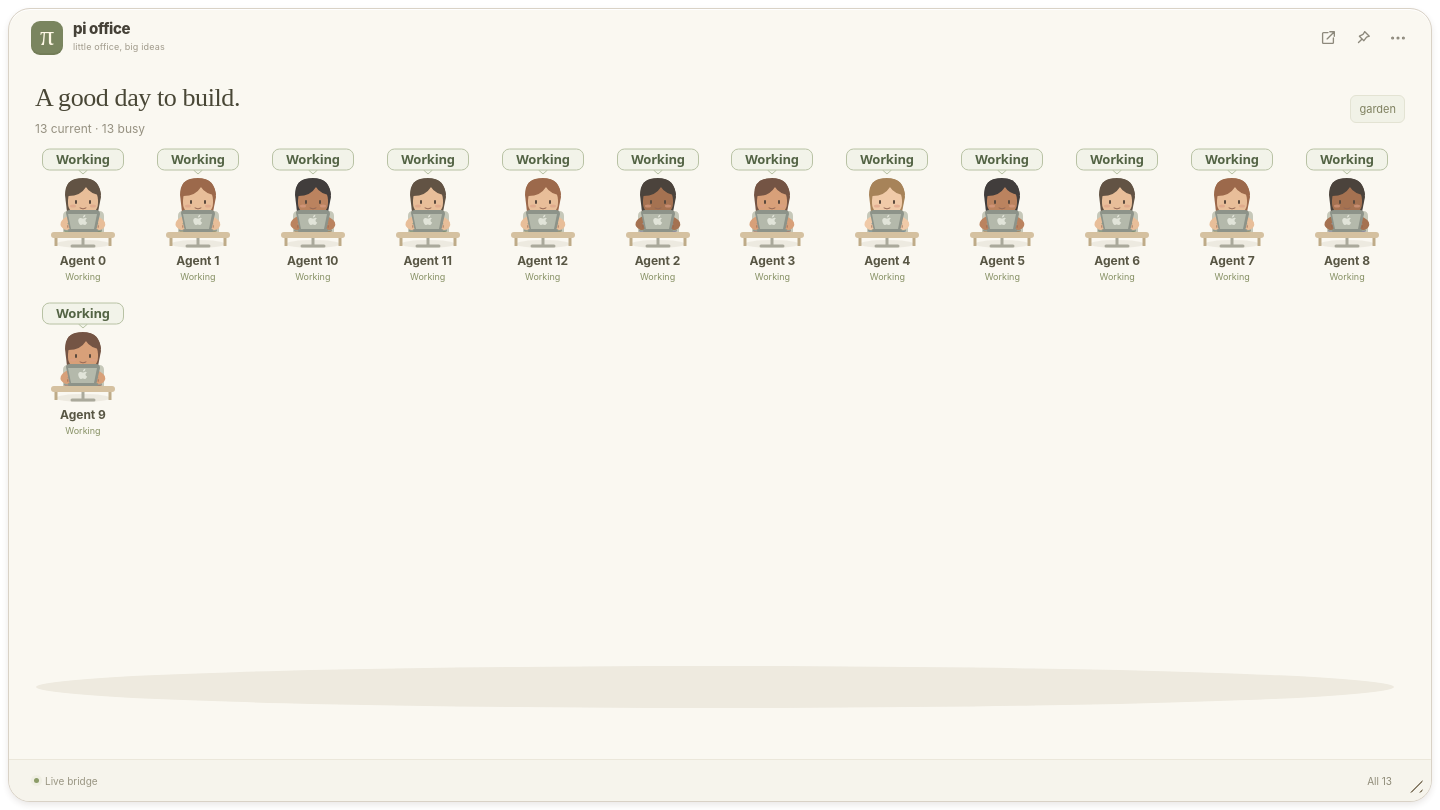
Test: companion renderer › renders more than eight residents without squeezing and keeps the list shortcut
Click the button with aria-label "View all 13 current agents" at (1380, 780), box x1=1364 y1=767 x2=1395 y2=794
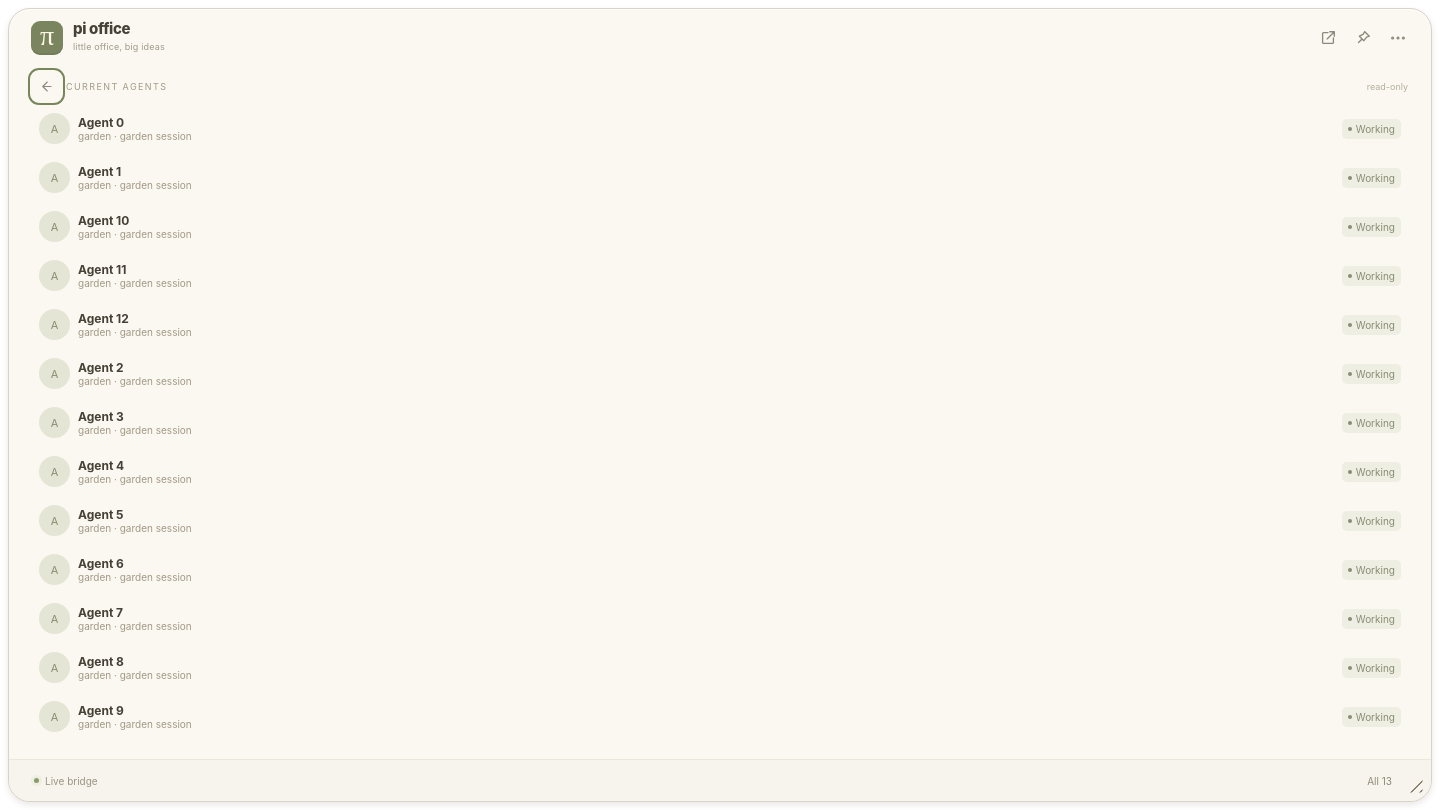
expect the number of buttons with class "resident-list-item" is 13: met
expect no icons with class "resident-art" are shown: met
